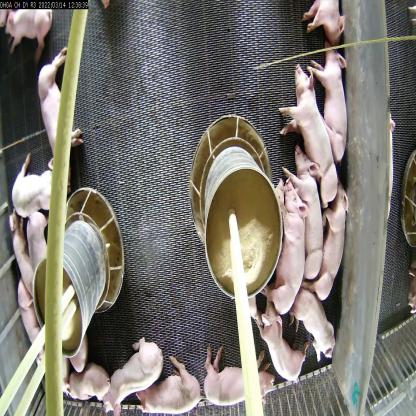Pig: (279, 70, 339, 205), (32, 36, 84, 160), (265, 183, 310, 312), (201, 342, 280, 415), (254, 297, 309, 387), (100, 333, 164, 407), (312, 36, 348, 158), (317, 180, 350, 309), (6, 152, 67, 216), (293, 282, 335, 366), (294, 146, 321, 275), (137, 366, 203, 416), (0, 2, 56, 55), (20, 214, 52, 286), (69, 356, 110, 401)
